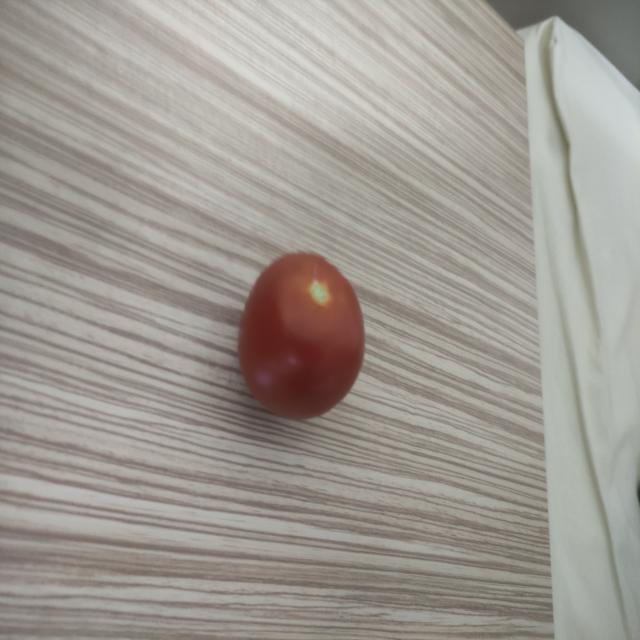kirmizi: (216, 236, 378, 437)
